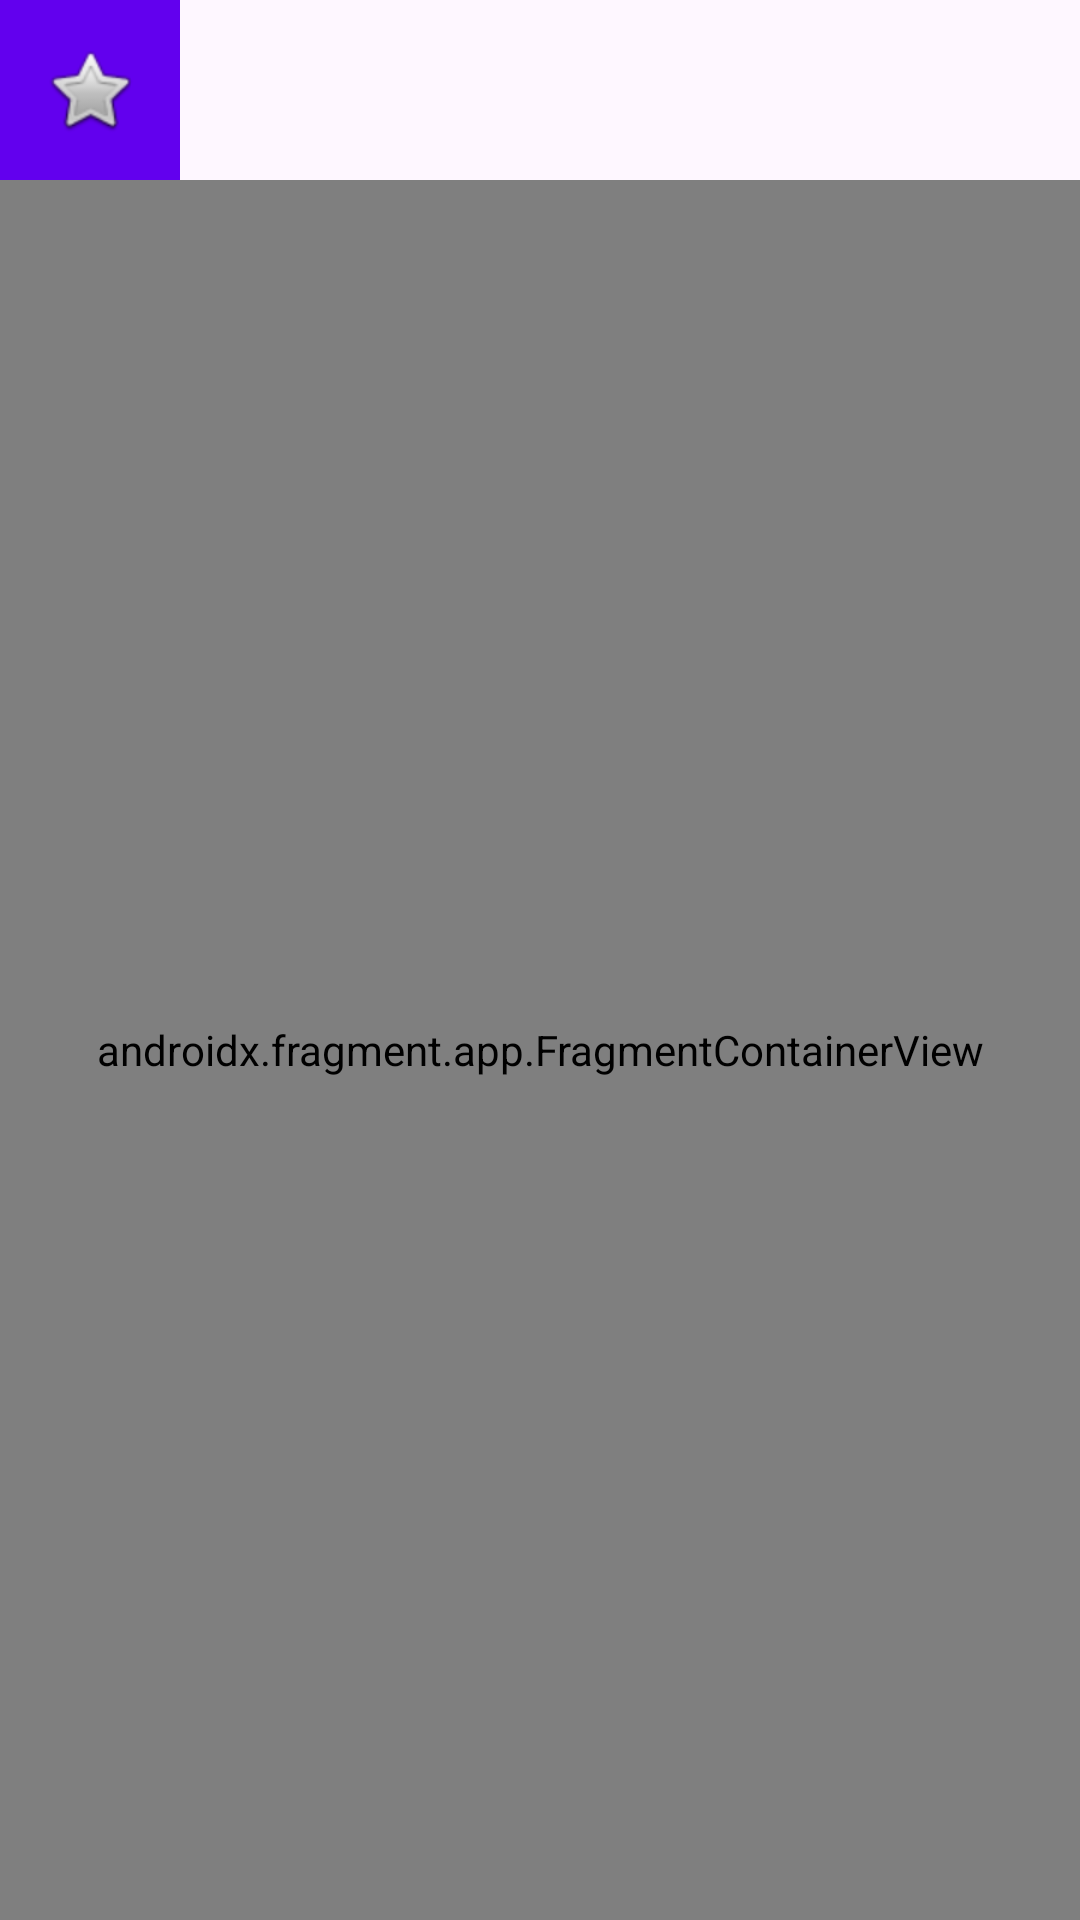

Point at icon controls on the screen. Image size 1080 × 1920, points as (x,y).
star: (90,90)
